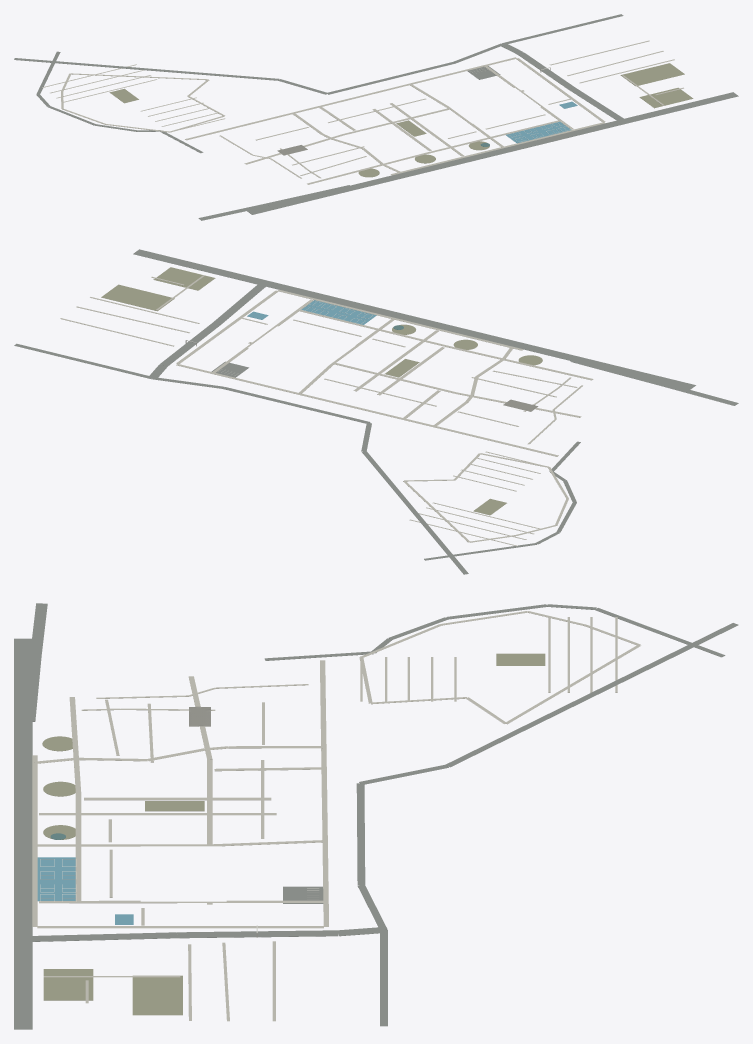
The model's file is 00-guanghua-merged.glb.
The picture shows the model from 3 angles, top to bottom: view 1: azimuth 30°, elevation 25°; view 2: azimuth 150°, elevation 25°; view 3: azimuth 270°, elevation 25°; orthographic projection. The views are drawn at different scales.
Visible parts, largest first — view 1: 邯郸路.001, Campus east west road.008, 东区草坪.001, 北侧边界道路.005, 室外球场.001, 新闻学院庭院.001, Campus east west road.015, 国定路.004, 北侧边界道路.007, 国定路.003, 北侧边界道路.009; view 2: 邯郸路.001, 东区草坪.001, Campus east west road.008, 室外球场.001, 北侧边界道路.005, 新闻学院庭院.001, Campus east west road.015; view 3: 邯郸路.001, 东区草坪.001, 室外球场.001, 北侧边界道路.005, Campus east west road.008, 新闻学院庭院.001, 国定路.004, 国定路.003, Campus east west road.015, Campus north south road.023, Campus north south road.022, 北侧边界道路.007 (+4 smaller).
Part boxes in pixels (box(x1,y1,x2,y2)): 邯郸路.001: box(247, 92, 738, 214); Campus east west road.008: box(185, 57, 516, 140); 东区草坪.001: box(620, 63, 684, 86); 北侧边界道路.005: box(14, 58, 279, 80); 室外球场.001: box(506, 121, 571, 143); 新闻学院庭院.001: box(639, 87, 693, 108); Campus east west road.015: box(390, 122, 605, 175); 国定路.004: box(517, 52, 574, 89); 北侧边界道路.007: box(327, 62, 454, 94); 国定路.003: box(568, 87, 626, 122); 北侧边界道路.009: box(502, 14, 623, 43); 邯郸路.001: box(133, 249, 695, 389); 东区草坪.001: box(101, 284, 174, 311); Campus east west road.008: box(176, 364, 558, 456); 室外球场.001: box(301, 300, 376, 324); 北侧边界道路.005: box(361, 451, 468, 574); 新闻学院庭院.001: box(153, 267, 215, 290); Campus east west road.015: box(277, 289, 523, 350); 邯郸路.001: box(14, 638, 32, 1029); 东区草坪.001: box(132, 975, 182, 1015); 室外球场.001: box(37, 857, 75, 901); 北侧边界道路.005: box(445, 623, 738, 767); Campus east west road.008: box(320, 660, 328, 926); 新闻学院庭院.001: box(43, 969, 93, 1000); 国定路.004: box(177, 930, 338, 938); 国定路.003: box(23, 932, 177, 941); Campus east west road.015: box(32, 755, 37, 926); Campus north south road.023: box(37, 926, 323, 928); Campus north south road.022: box(39, 900, 326, 903); 北侧边界道路.007: box(356, 783, 365, 885).
Size of what is drawn, in the model's own units: 1038 by 5.46 by 746.
11 materials, 1 textured.
